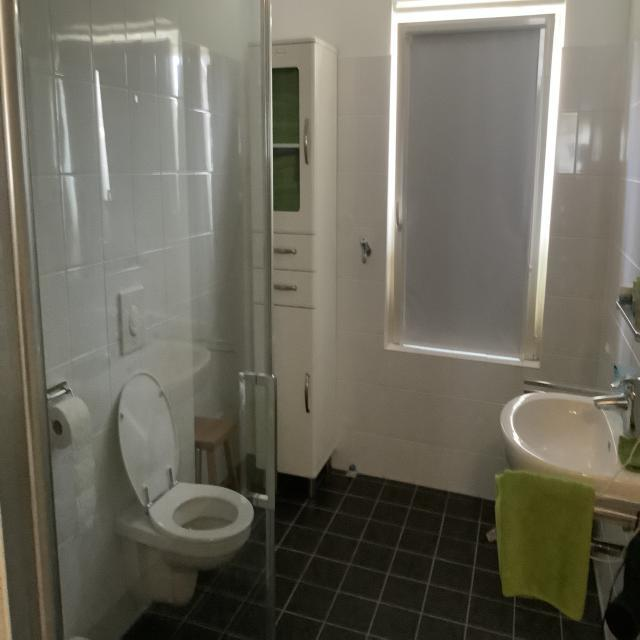douche: (0, 0, 282, 640)
toilet: (102, 280, 256, 606)
wastafel: (494, 366, 640, 558)
